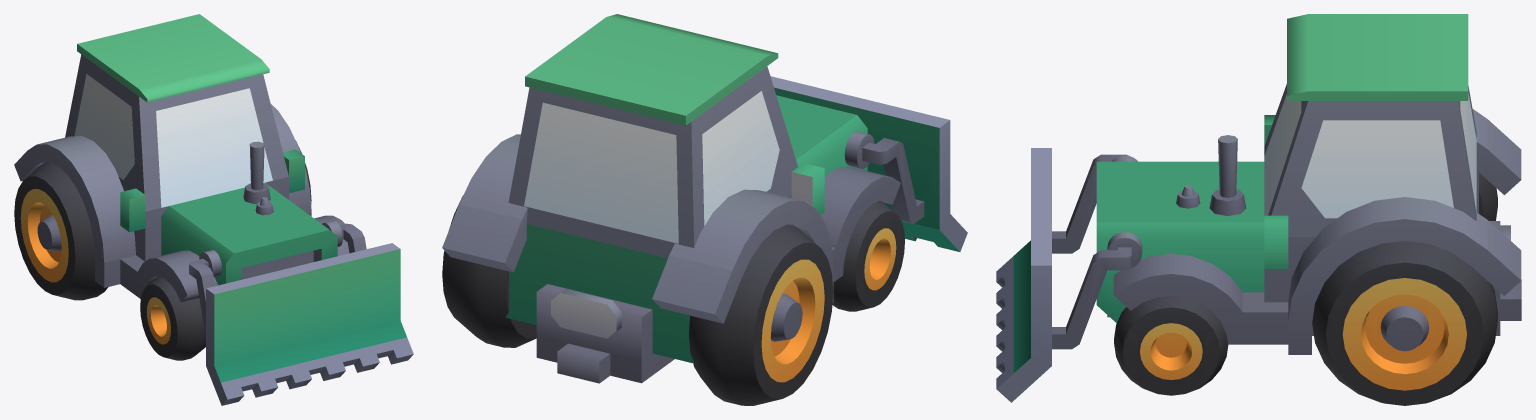
The model's file is gravmaskin.glb.
3 views of the same model, side by side, from view 1: azimuth 30°, elevation 25°; view 2: azimuth 150°, elevation 25°; view 3: azimuth 270°, elevation 25° (orthographic). The views are drawn at different scales.
Visible parts, largest first — view 1: body, shovel, wheel-back-right, wheel-front-right; view 2: body, wheel-back-right, shovel, wheel-front-right, wheel-back-left; view 3: body, wheel-back-left, shovel, wheel-front-left, wheel-back-right.
Boxes of the visible parts, <box> form: body: <box>14,14,349,302</box>; shovel: <box>189,220,413,405</box>; wheel-back-right: <box>14,162,108,300</box>; wheel-front-right: <box>140,276,205,360</box>; body: <box>442,14,900,383</box>; wheel-back-right: <box>689,224,833,405</box>; shovel: <box>770,76,967,251</box>; wheel-front-right: <box>832,200,904,311</box>; wheel-back-left: <box>442,195,536,347</box>; body: <box>1096,14,1521,354</box>; wheel-back-left: <box>1312,241,1497,405</box>; shovel: <box>996,148,1142,402</box>; wheel-front-left: <box>1114,295,1228,395</box>; wheel-back-right: <box>1479,172,1497,220</box>.
Bounding box in the file's own units: 1.66 × 1.51 × 2.47.
Materials: 1 (1 with a texture image).
